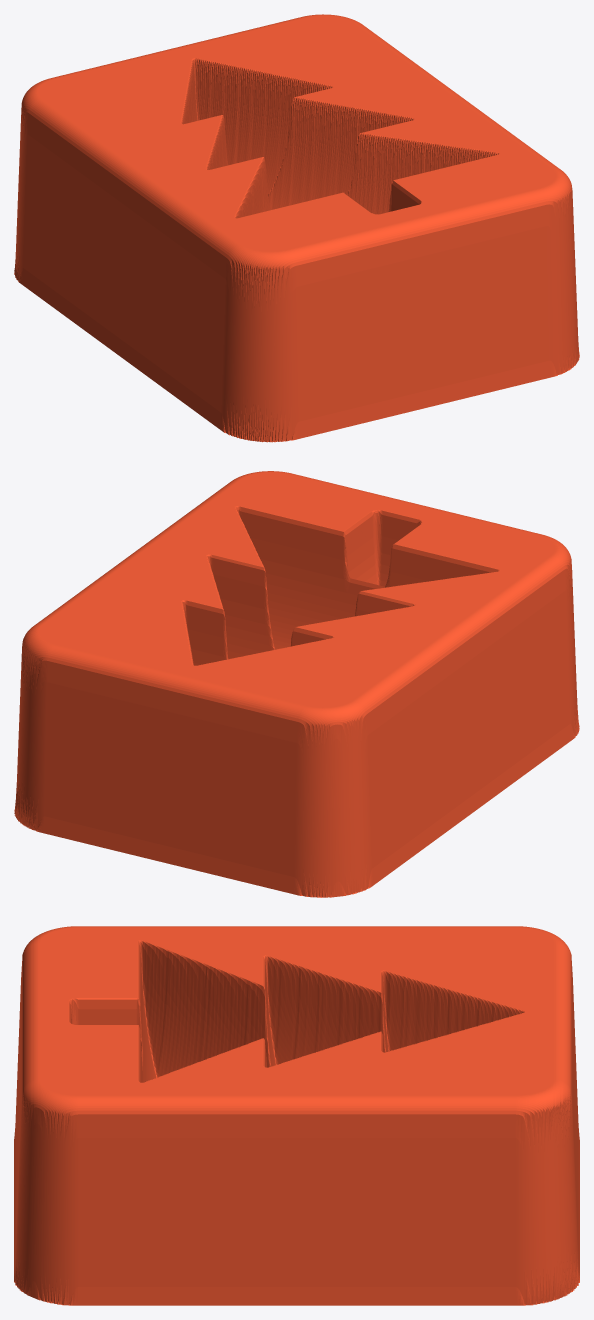
The model's file is mold.glb.
3 renders of one model, top to bottom at view 1: azimuth 30°, elevation 25°; view 2: azimuth 150°, elevation 25°; view 3: azimuth 270°, elevation 25°, orthographic. The views are drawn at different scales.
Visible parts, largest first — view 1: geometry_0; view 2: geometry_0; view 3: geometry_0.
Boxes of the visible parts, left/top/right/bottom form: geometry_0: left=14, top=14, right=579, bottom=442; geometry_0: left=14, top=471, right=579, bottom=897; geometry_0: left=14, top=926, right=579, bottom=1305.
Bounding box in the file's own units: 0.0632 × 0.031 × 0.0798.
